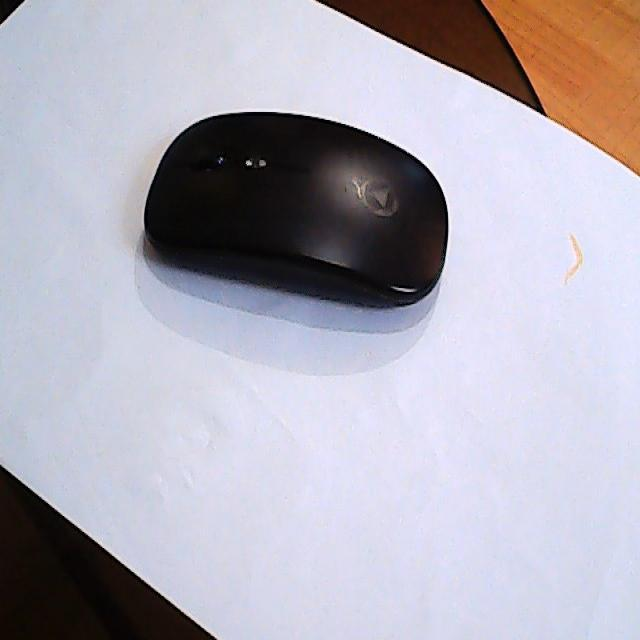mouse: (143, 108, 450, 310)
